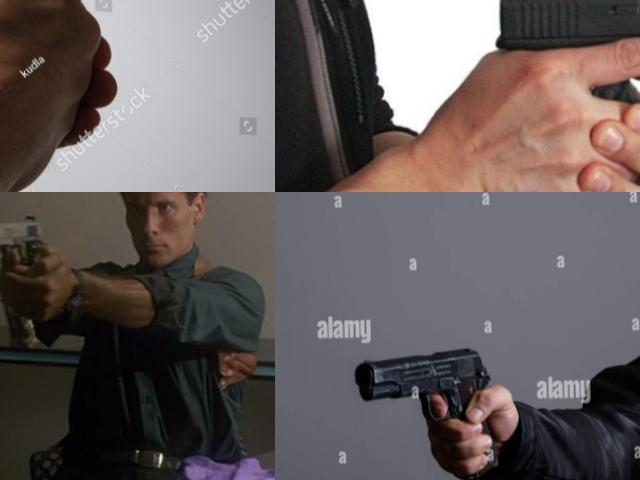handgun: (352, 343, 507, 480), (490, 0, 640, 131), (0, 0, 125, 98), (0, 211, 49, 287)
